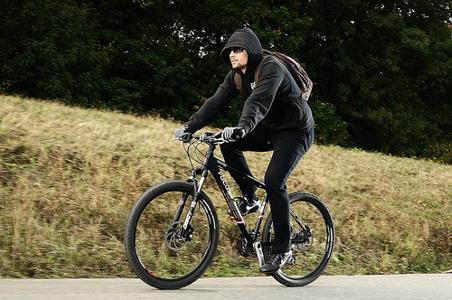person: (174, 27, 316, 273)
